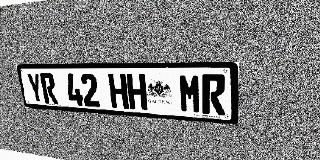2: (80, 73, 100, 107)
4: (64, 73, 84, 106)
H: (126, 74, 148, 110), (108, 74, 129, 109)
M: (179, 74, 201, 114)
R: (202, 74, 226, 115), (39, 73, 58, 104)
Y: (26, 73, 45, 103)
